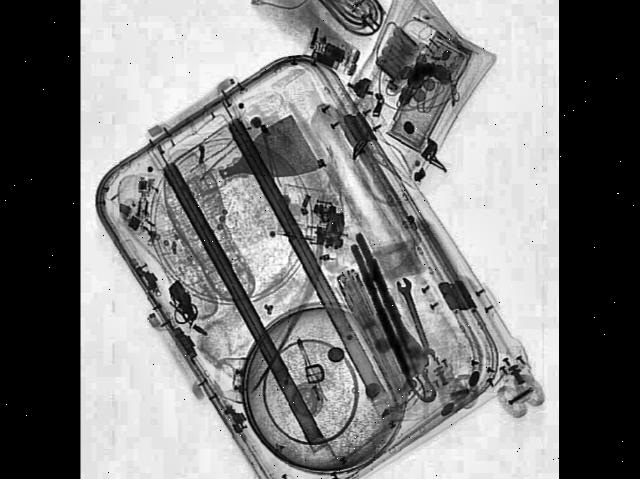Wrench: (396, 270, 441, 367)
